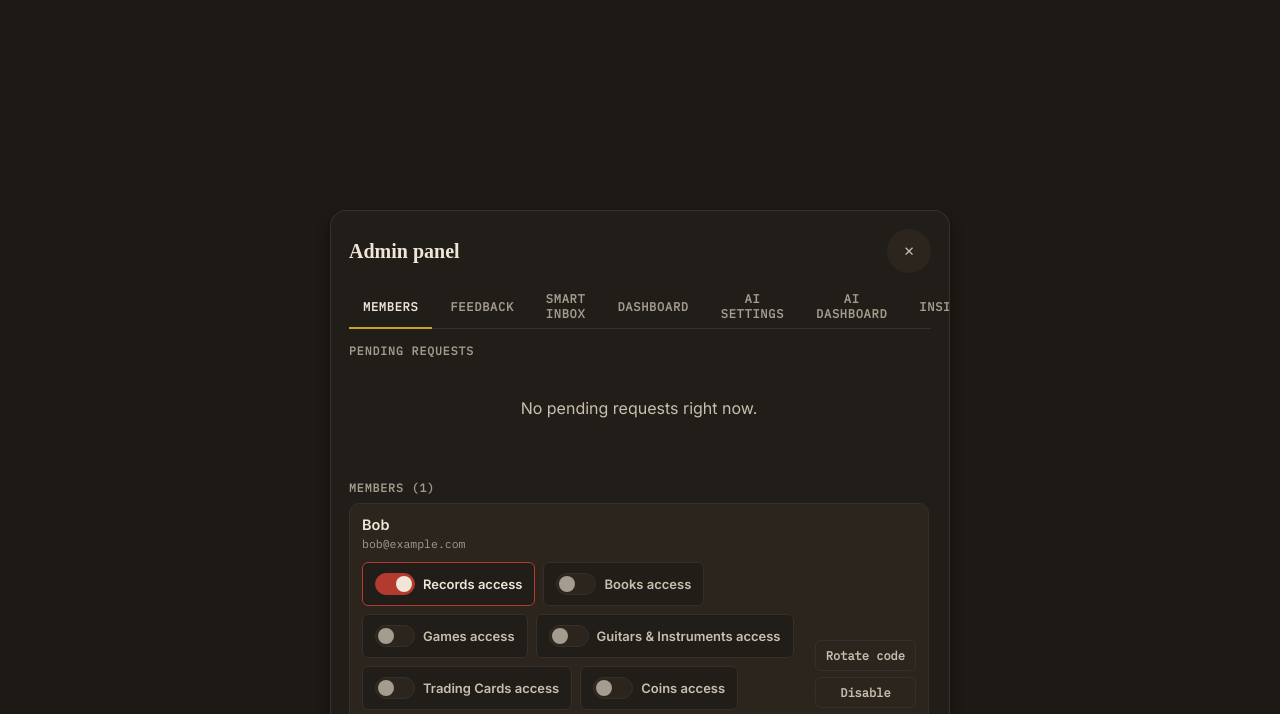
Scenario: Admin rotate code › rotates a member code, shows the new code once, and clears it on Done
The image size is (1280, 714).
Click the button "Rotate code" at x=865, y=656, box [815,640,916,671]
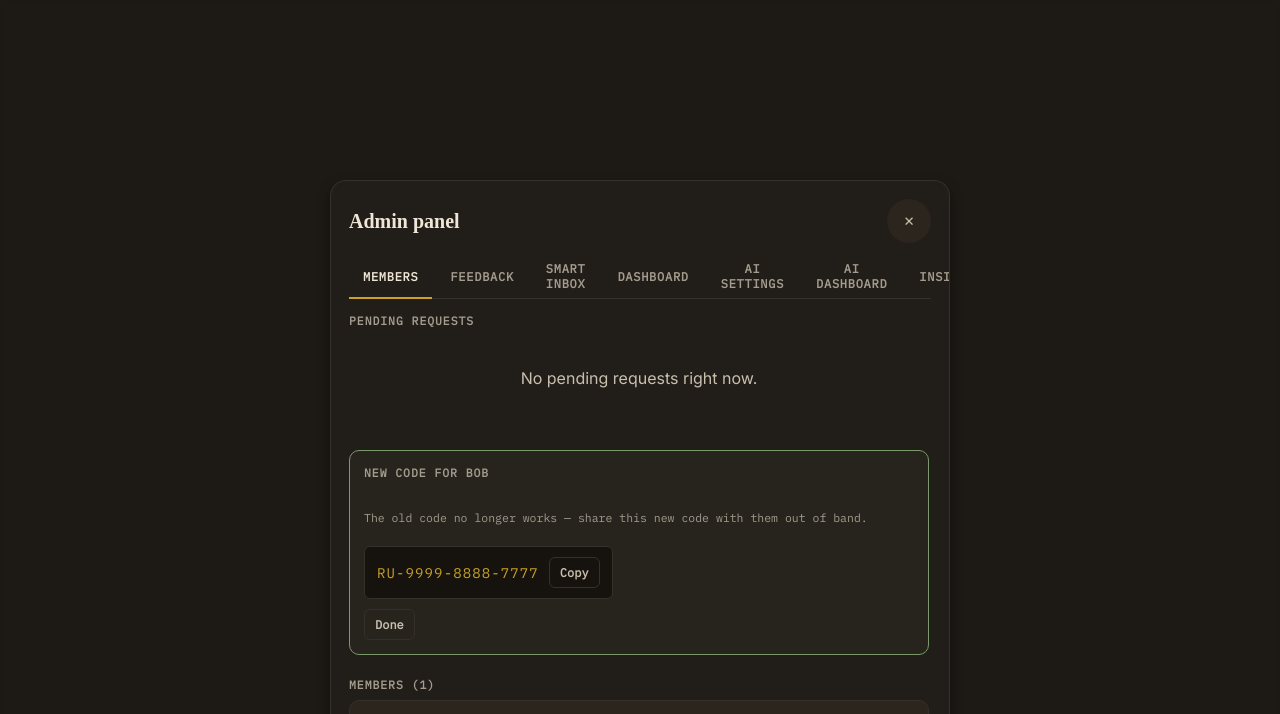
Expected: the text "RU-9999-8888-7777" is shown, [377,564,539,582]
Click the button "Done" at x=389, y=624, box [364,609,415,640]
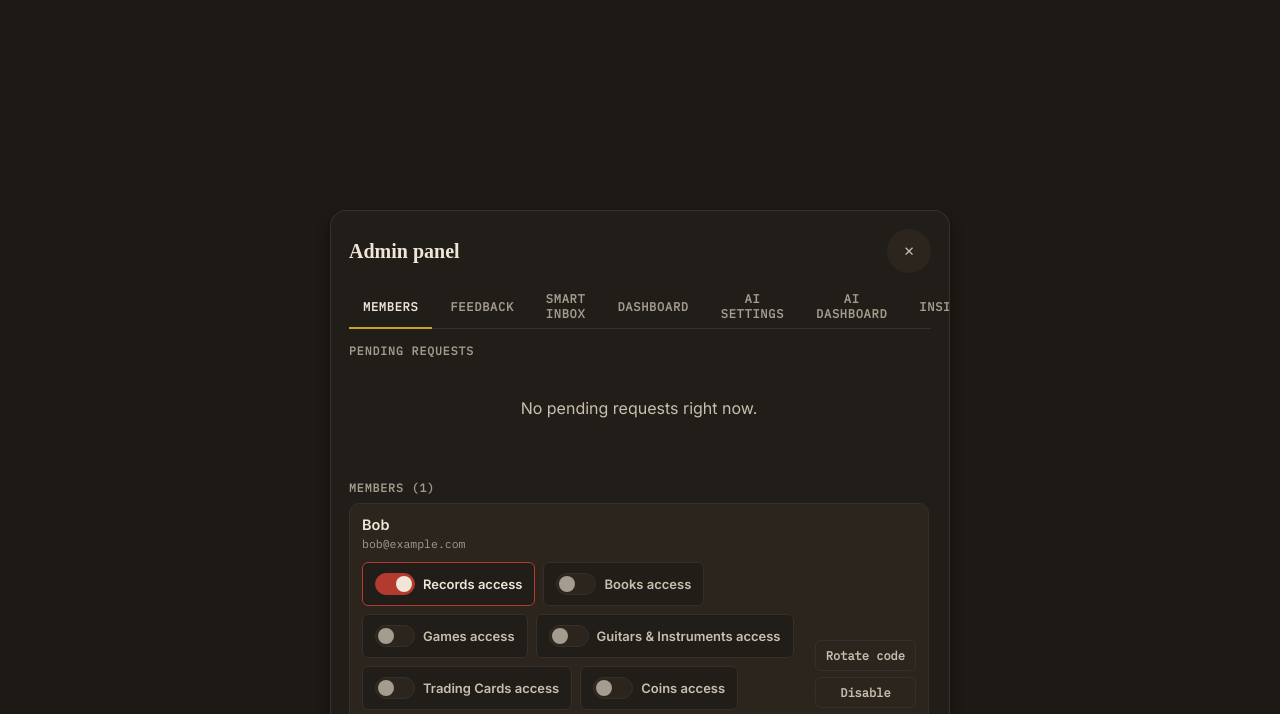
Expected: the text "RU-9999-8888-7777" is gone
